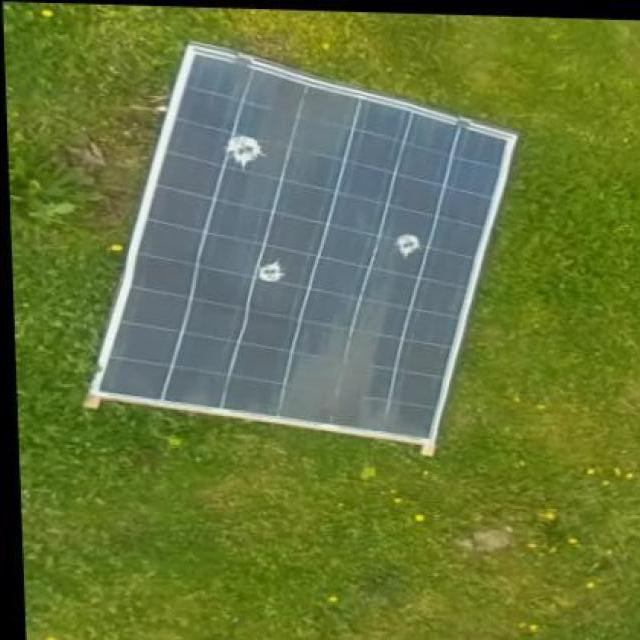soiled: (90, 47, 520, 457)
